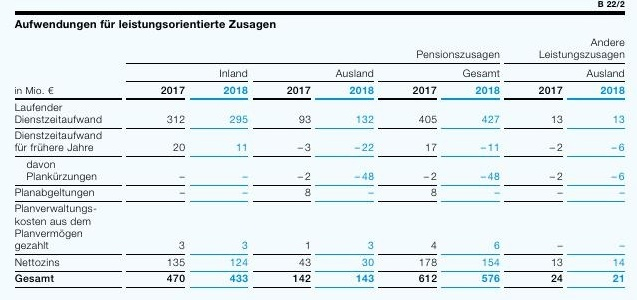table: (0, 0, 637, 300)
